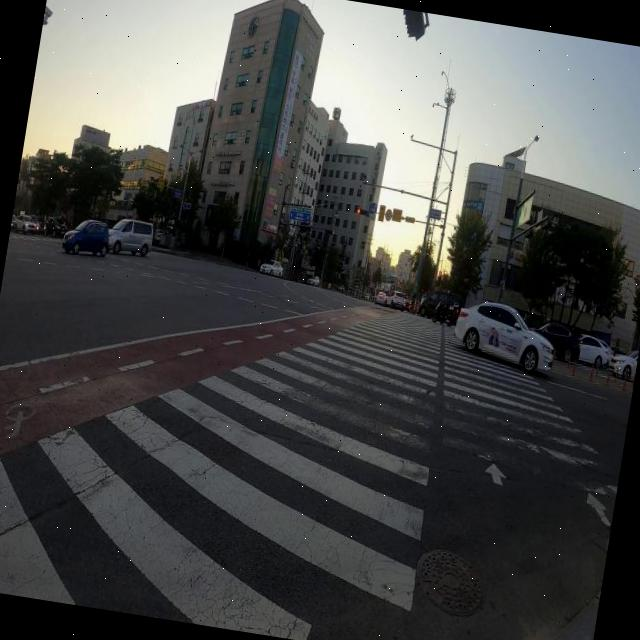crosswalk: (0, 310, 611, 640)
